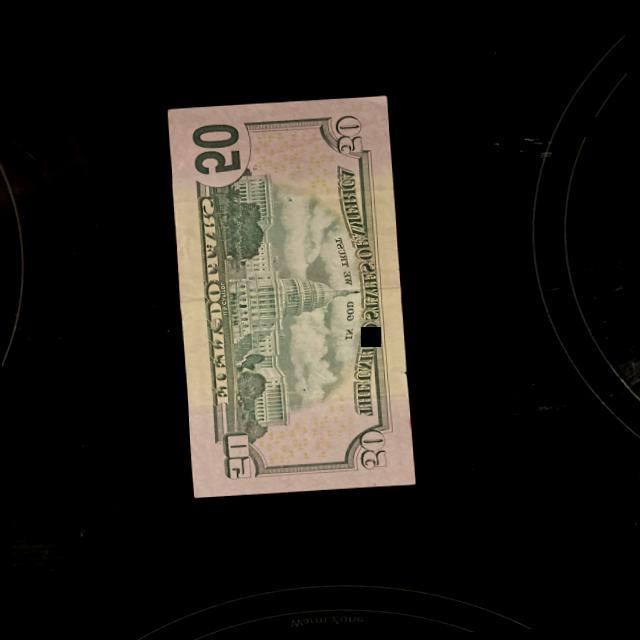fifty: (167, 93, 416, 498)
